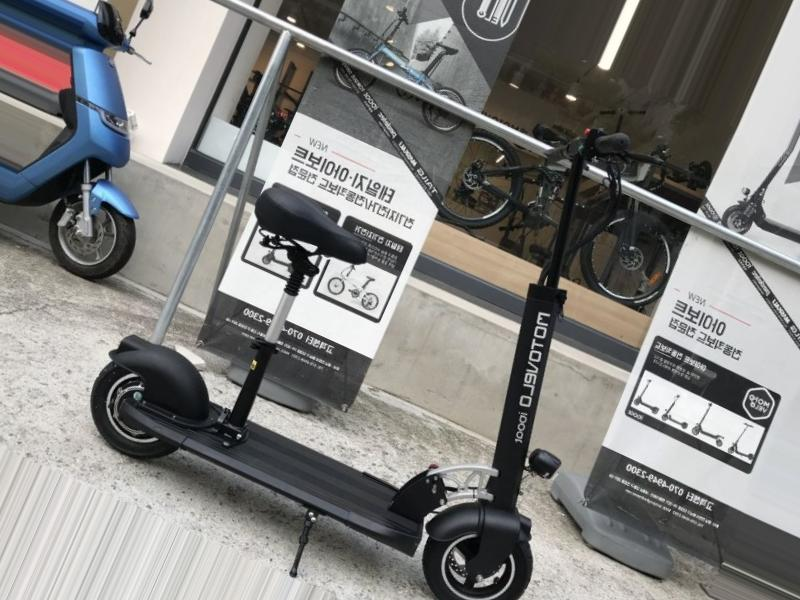scooter: (88, 127, 628, 600)
